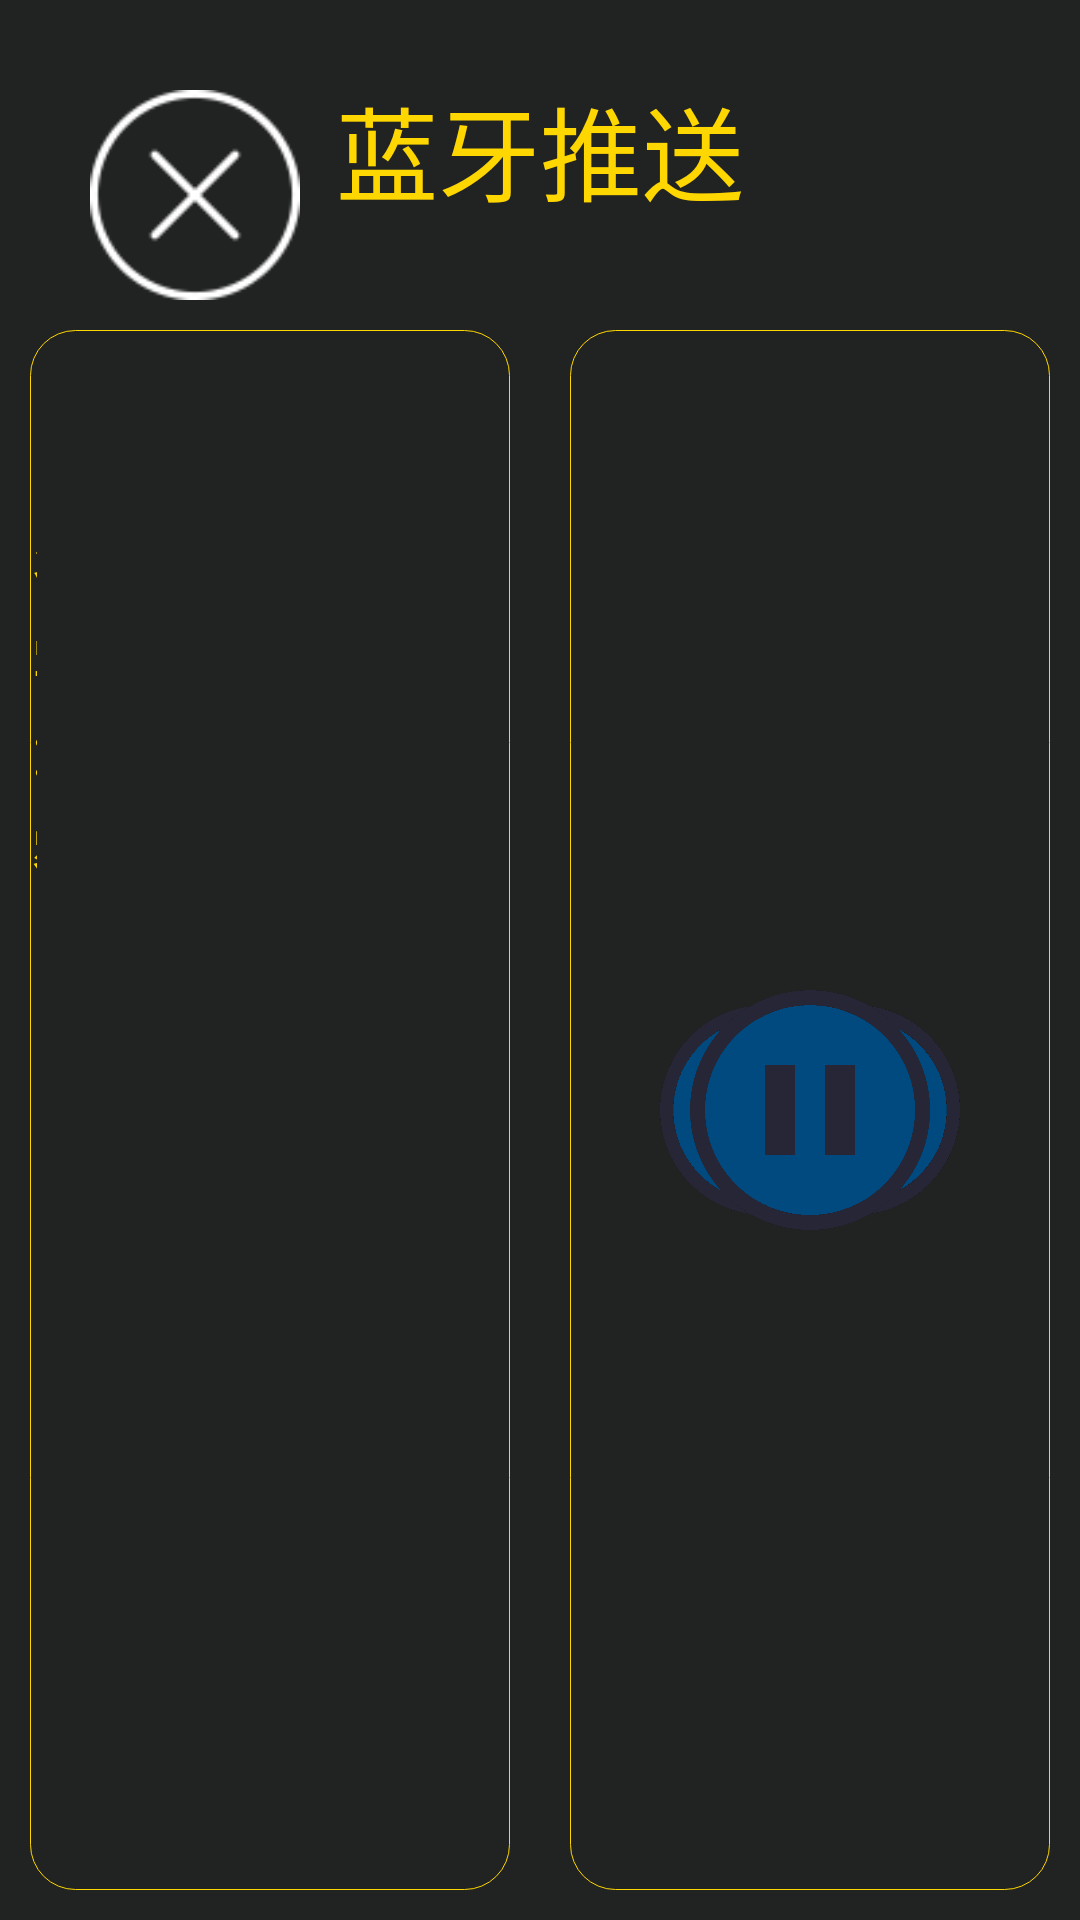

Where to tap for icons on this 1080×1920 app screen, as (x,y):
bussiness personal closed: (195,195)
